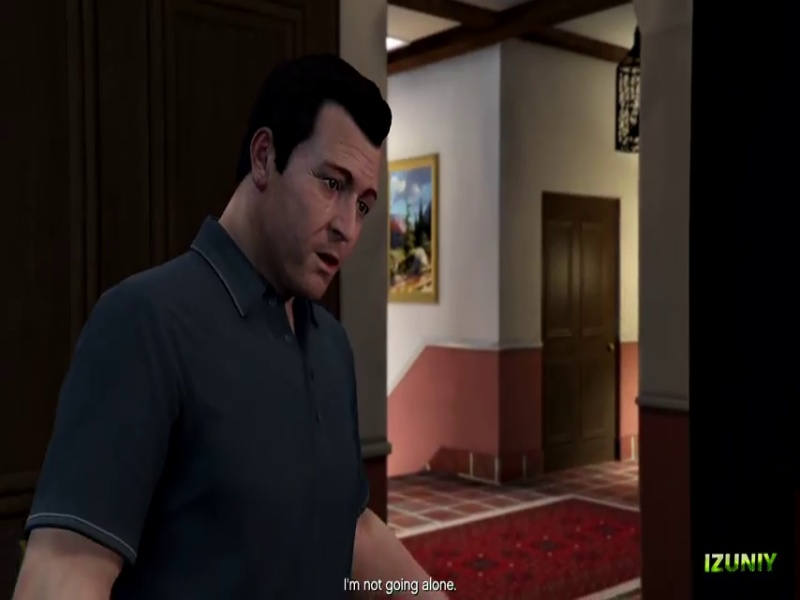licenseplate: (421, 14, 600, 51)
